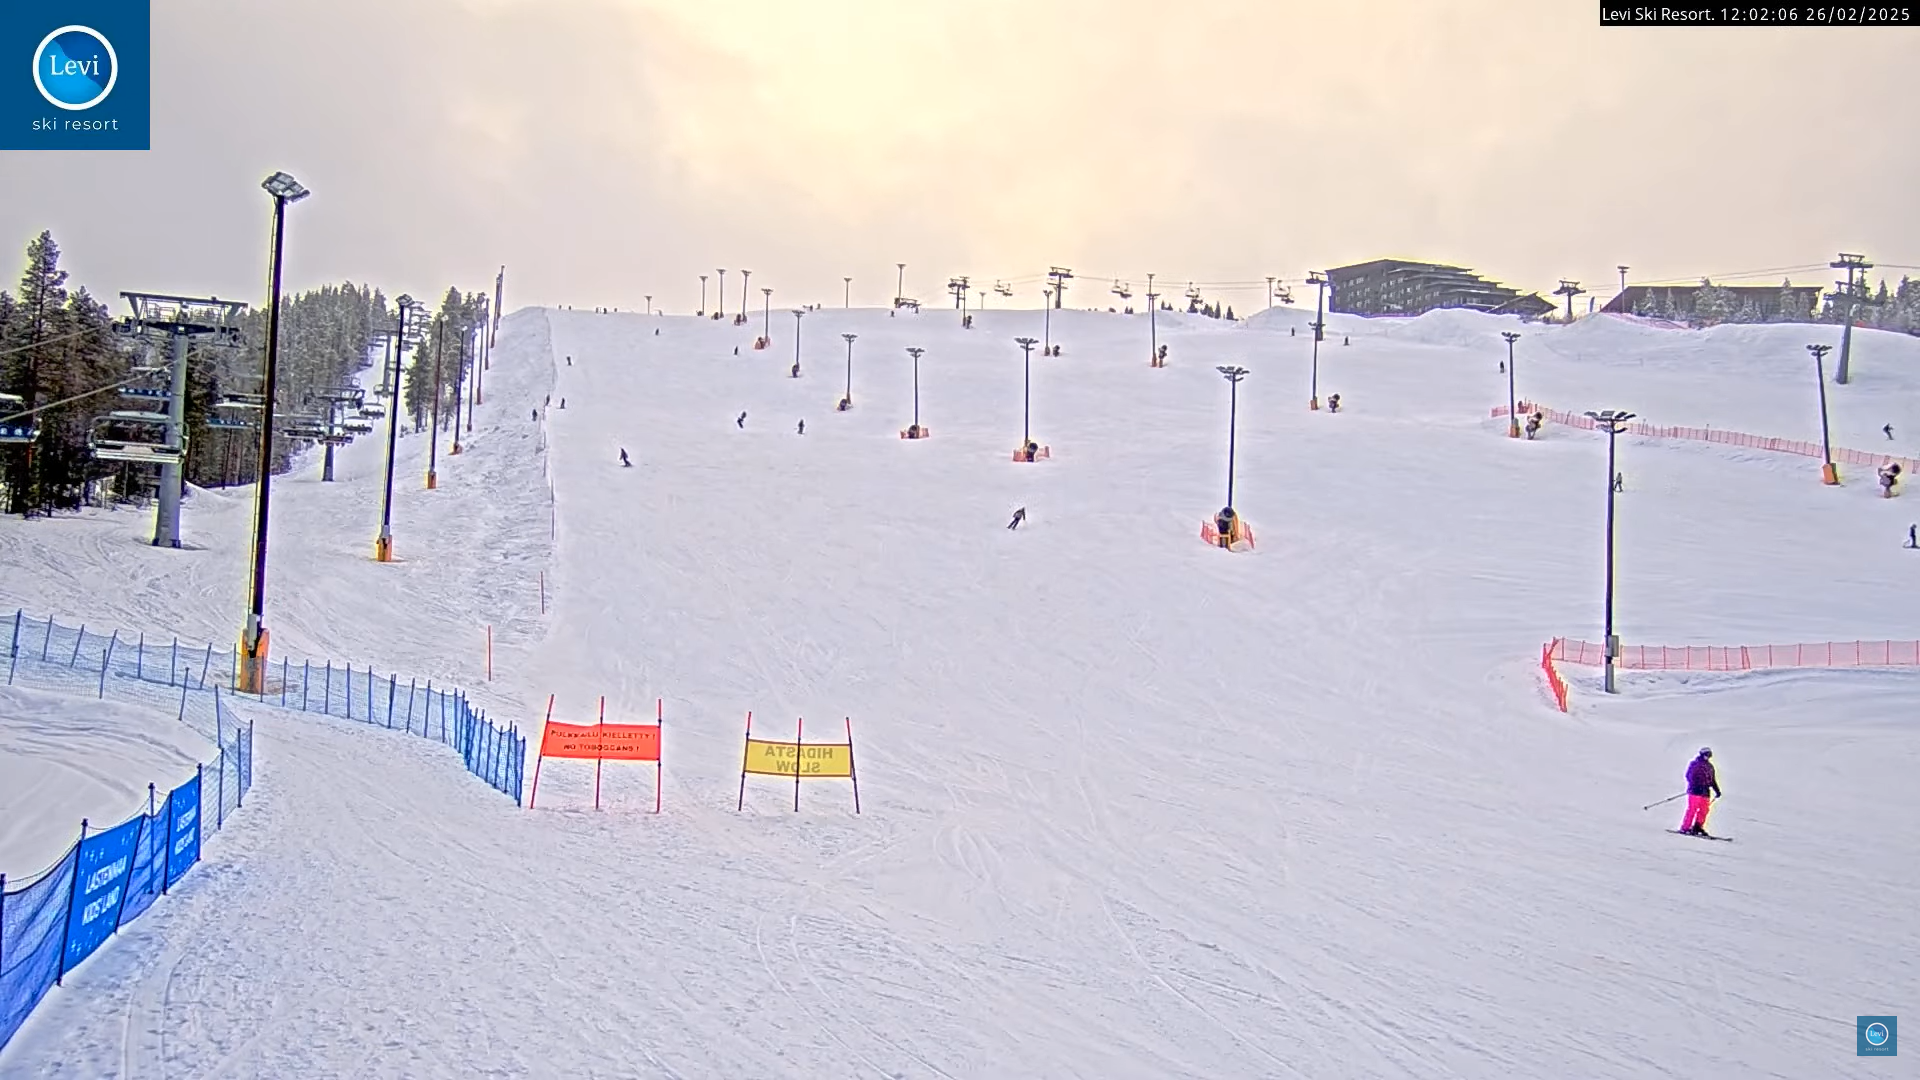skier: (1635, 740, 1739, 853)
